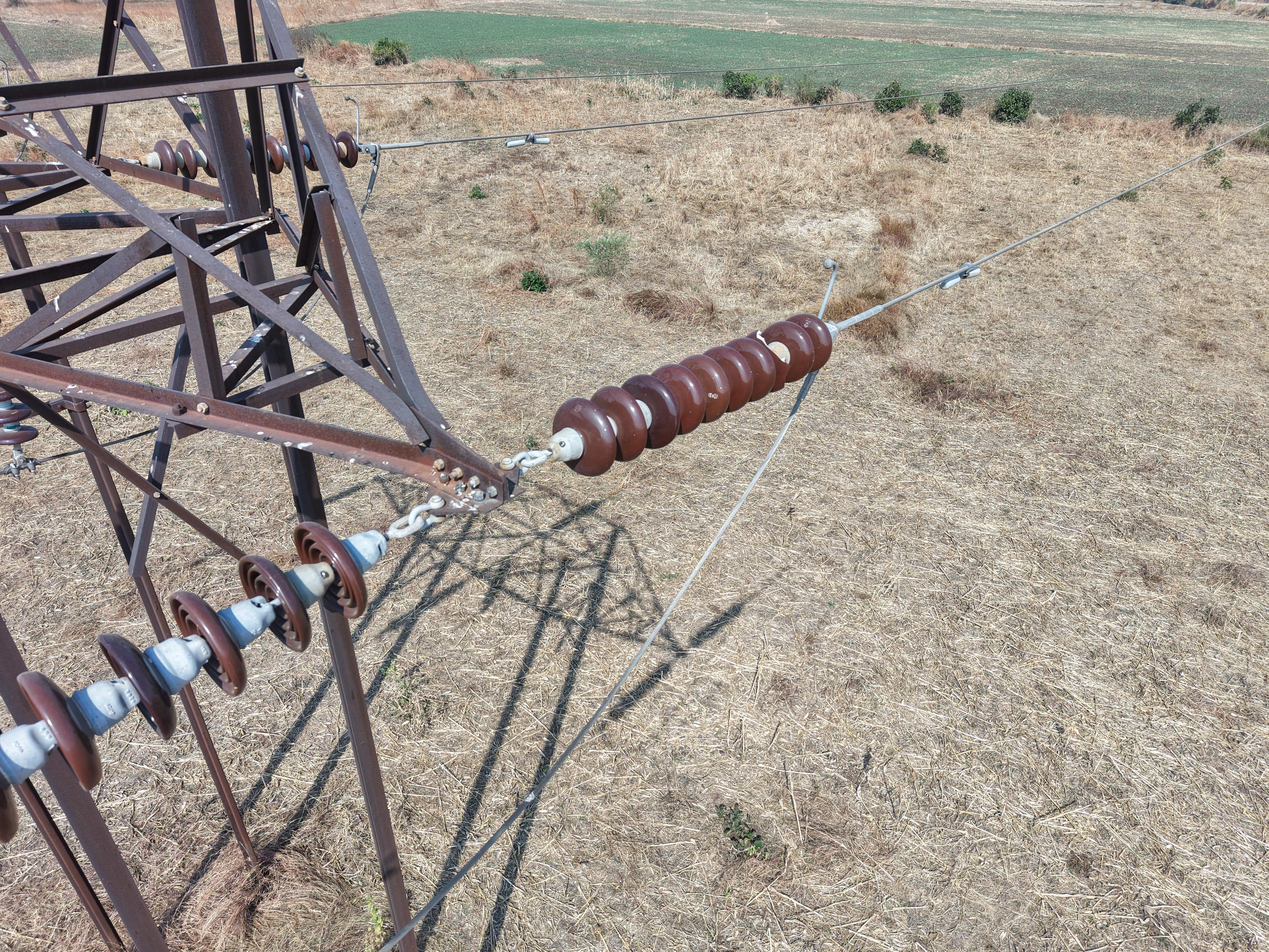broken_insulator: (750, 328, 792, 392)
